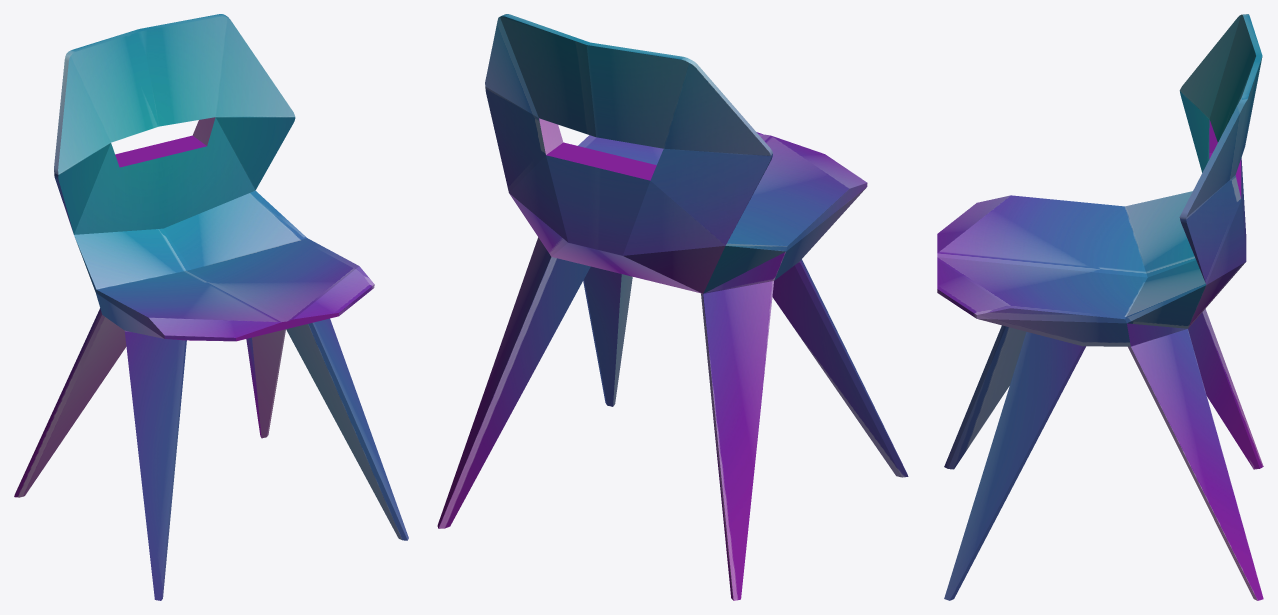
File: chair-model-13.glb
3 views of the same model, side by side, from view 1: azimuth 30°, elevation 25°; view 2: azimuth 150°, elevation 25°; view 3: azimuth 270°, elevation 25° (orthographic). The views are drawn at different scales.
Parts seen in each view (by area): view 1: 11.006; view 2: 11.006; view 3: 11.006.
Part boxes in pixels (bbox=[...]): 11.006: bbox=[14, 14, 408, 600]; 11.006: bbox=[437, 14, 908, 600]; 11.006: bbox=[937, 14, 1263, 600].
Size of the model in its own units: 3.13 by 5.14 by 3.18.
Materials: 1 (1 with a texture image).
